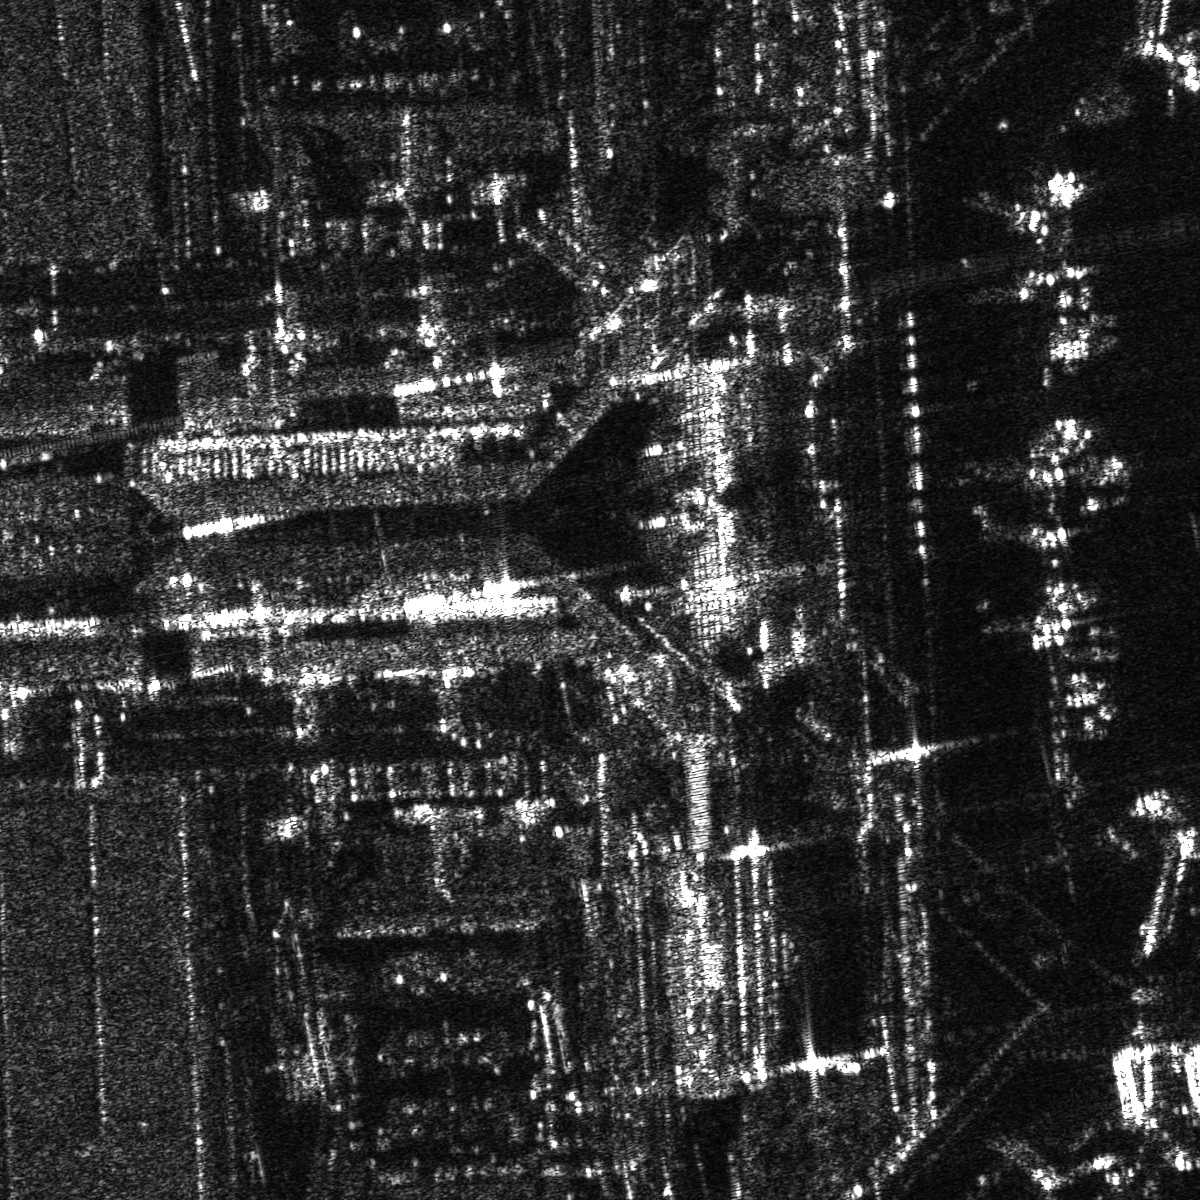A320/321: (1024, 407, 1131, 516), (1014, 574, 1124, 664)
